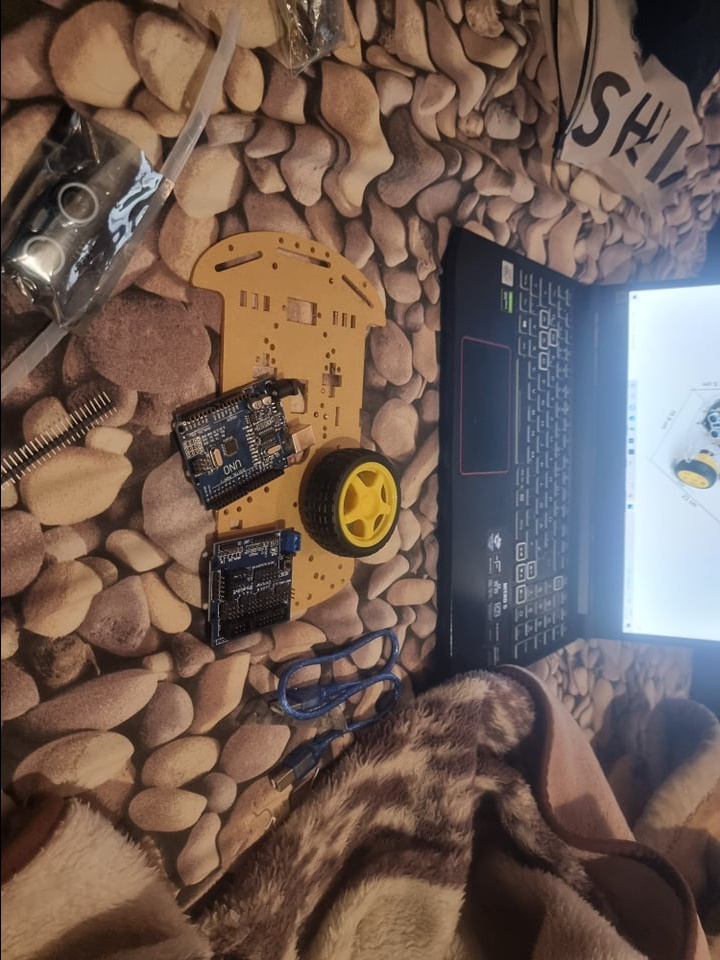5V EXPANSION: (207, 526, 301, 646)
SENSOR: (10, 181, 99, 291)
UNO R3: (169, 372, 316, 514)
